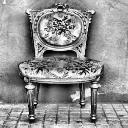chair_success: (15, 1, 110, 125)
